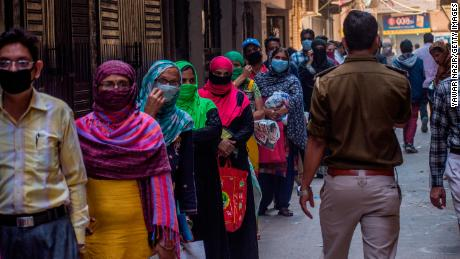mask: (91, 51, 130, 123), (1, 34, 33, 105), (147, 56, 179, 106), (179, 59, 200, 106), (211, 54, 230, 95), (428, 41, 454, 69), (243, 38, 265, 64), (270, 47, 291, 73), (299, 28, 317, 55), (309, 41, 328, 66), (232, 51, 248, 79)
